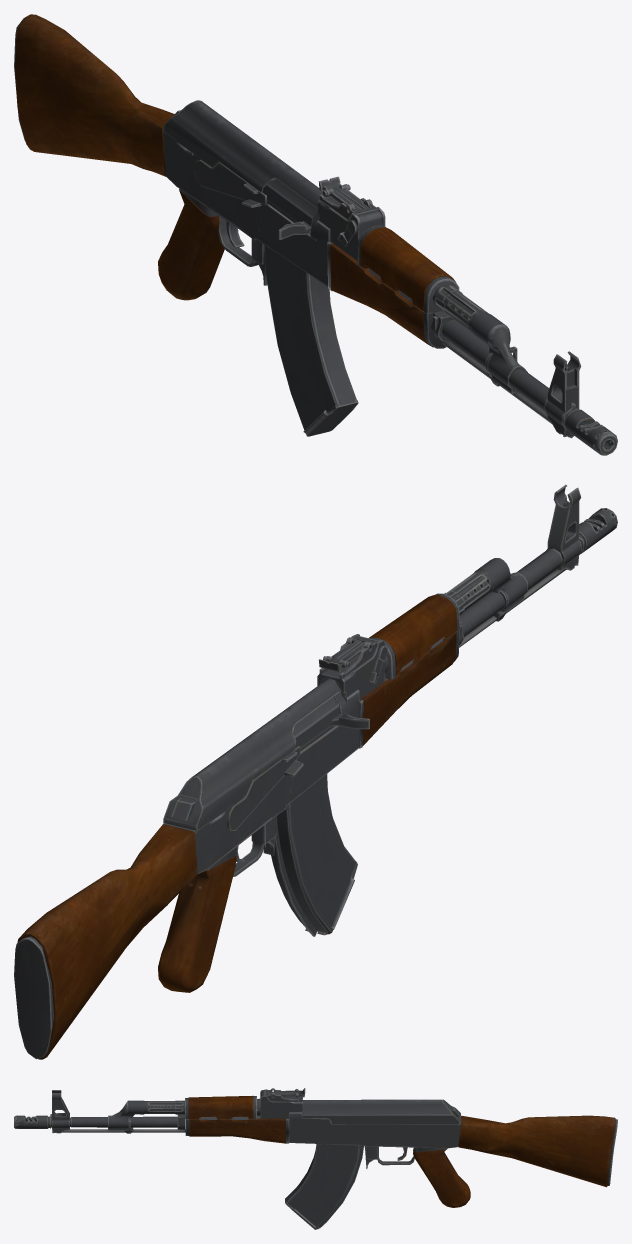
File: rifle_robber.glb
The picture shows the model from 3 angles, top to bottom: view 1: azimuth 30°, elevation 25°; view 2: azimuth 150°, elevation 25°; view 3: azimuth 270°, elevation 25°; orthographic projection. The views are drawn at different scales.
Visible parts, largest first — view 1: ak47_ak47_0; view 2: ak47_ak47_0; view 3: ak47_ak47_0.
Part boxes in pixels (<box>): ak47_ak47_0: <box>14,14,617,455</box>; ak47_ak47_0: <box>14,484,617,1059</box>; ak47_ak47_0: <box>14,1088,617,1229</box>.
Bounding box in the file's own units: 0.0613 × 0.237 × 0.944.
1 material, 1 textured.
